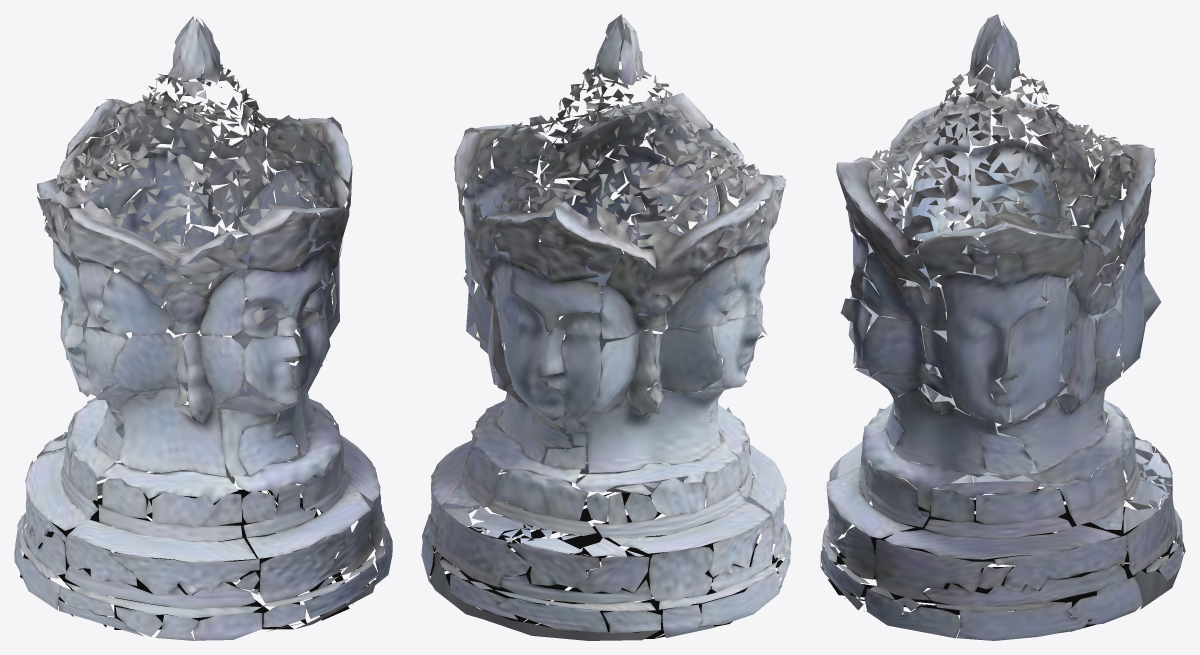
File: far.glb
3 renders of one model, left to right at view 1: azimuth 30°, elevation 25°; view 2: azimuth 150°, elevation 25°; view 3: azimuth 270°, elevation 25°, orthographic.
Visible parts, largest first — view 1: statue-031; view 2: statue-031; view 3: statue-031.
Part boxes in pixels (x1,y1,x2,y2): statue-031: [14, 16, 392, 640]; statue-031: [421, 14, 791, 640]; statue-031: [820, 14, 1185, 640].
Size of the model in its own units: 0.6003 by 0.9838 by 0.5976.
Materials: 1 (1 with a texture image).
